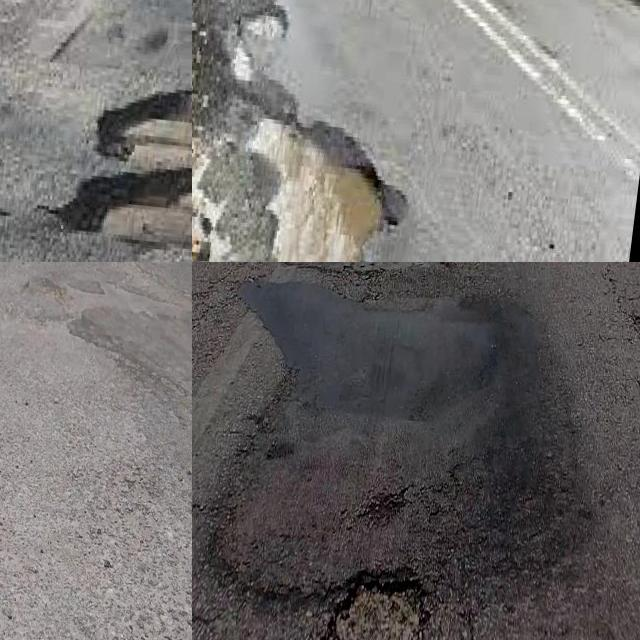Pothole: (239, 115, 406, 262), (192, 0, 295, 126), (52, 169, 192, 249), (99, 87, 192, 158), (321, 580, 428, 640), (246, 14, 285, 39), (232, 47, 254, 81)
